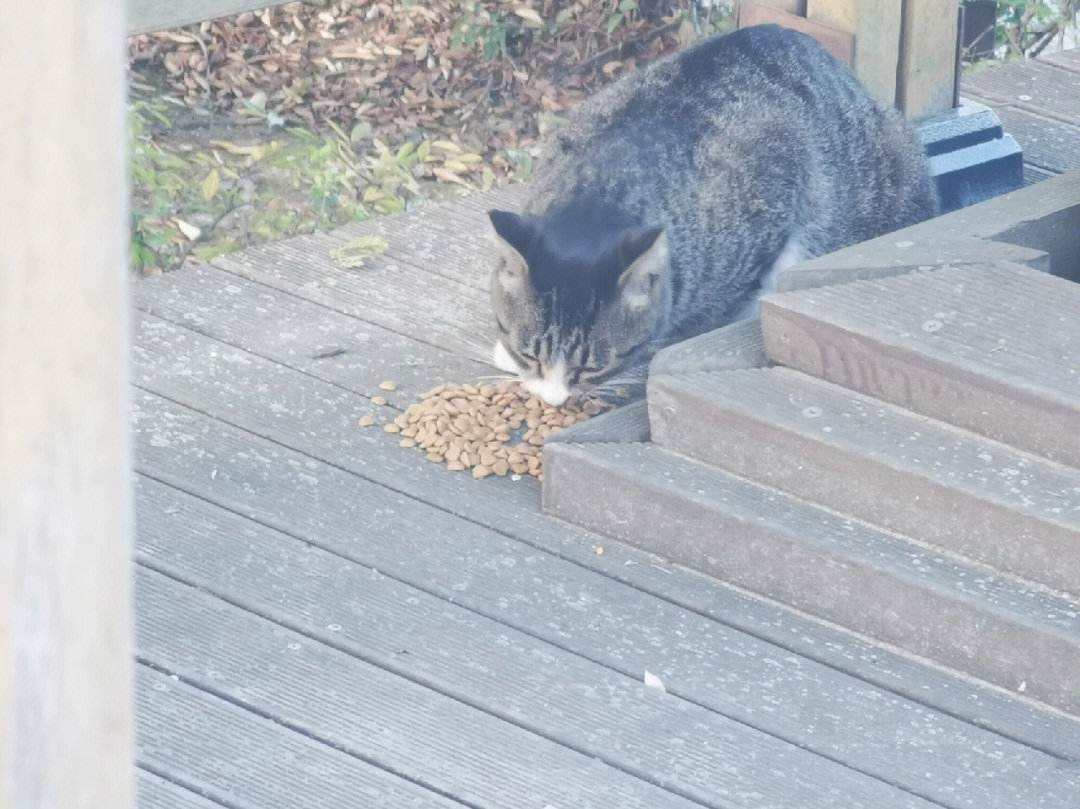cat: (486, 24, 941, 408)
